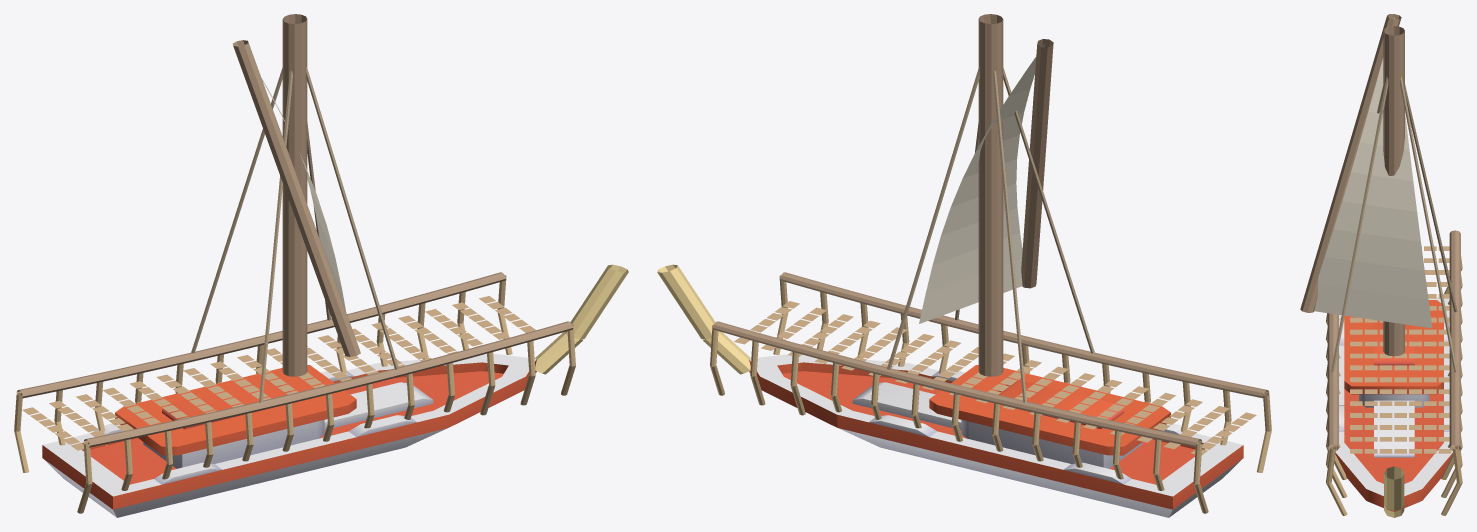
The model's file is zaruk-custom.glb.
The picture shows the model from 3 angles, left to right: view 1: azimuth 30°, elevation 25°; view 2: azimuth 150°, elevation 25°; view 3: azimuth 270°, elevation 25°; orthographic projection. The views are drawn at different scales.
Visible parts, largest first — view 1: zaruk-custom-geometry, boat-sail-a; view 2: zaruk-custom-geometry, boat-sail-a; view 3: zaruk-custom-geometry, boat-sail-a.
Part boxes in pixels (bbox=[...]): zaruk-custom-geometry: bbox=[14, 14, 628, 513]; boat-sail-a: bbox=[42, 354, 536, 517]; zaruk-custom-geometry: bbox=[657, 14, 1271, 513]; boat-sail-a: bbox=[749, 354, 1243, 517]; zaruk-custom-geometry: bbox=[1300, 14, 1462, 517]; boat-sail-a: bbox=[1335, 297, 1452, 511].
Bounding box in the file's own units: 22.56 × 16.36 × 6.05.
7 materials, 1 textured.
